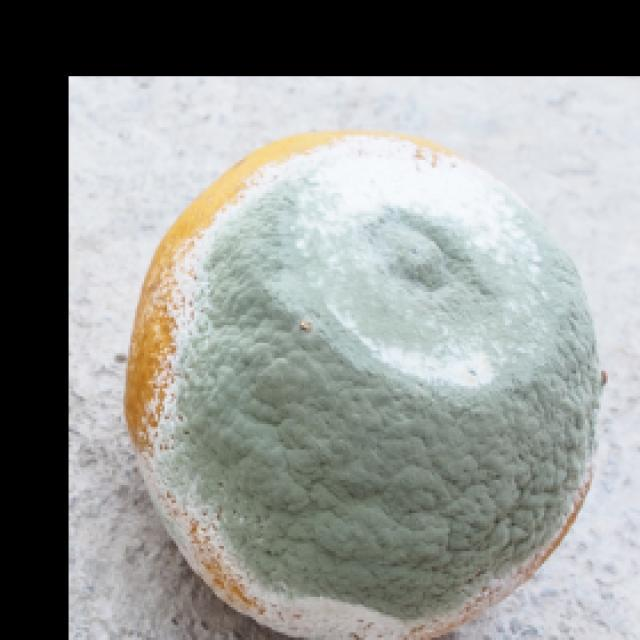sangat-busuk: (124, 131, 604, 639)
